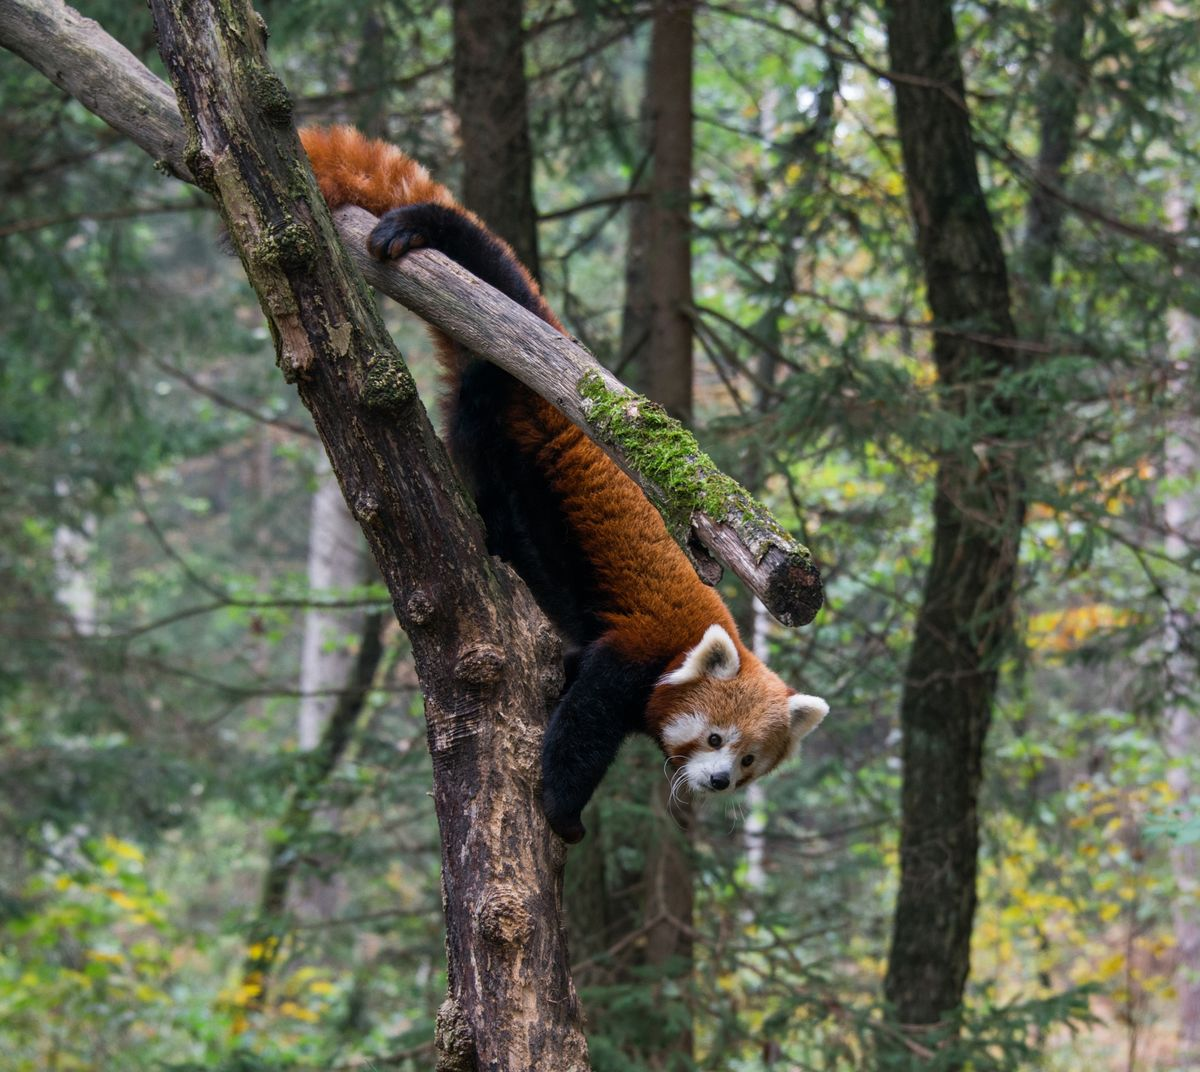red_panda: (288, 119, 831, 847)
